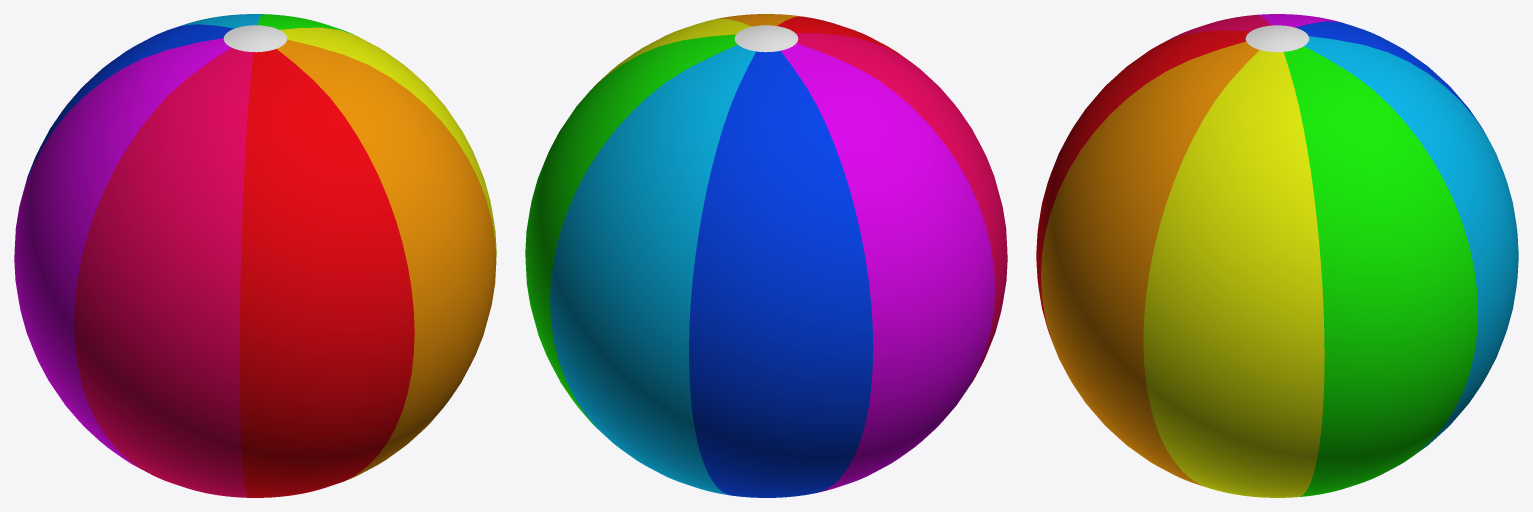
File: mastertux-water-polo-62.glb
3 views of the same model, side by side, from view 1: azimuth 30°, elevation 25°; view 2: azimuth 150°, elevation 25°; view 3: azimuth 270°, elevation 25° (orthographic).
Visible parts, largest first — view 1: Sphere; view 2: Sphere; view 3: Sphere.
Part boxes in pixels (bbox=[...]): Sphere: bbox=[14, 14, 496, 497]; Sphere: bbox=[525, 14, 1007, 497]; Sphere: bbox=[1036, 14, 1518, 497].
Bounding box in the file's own units: 1.97 × 2 × 1.97.
